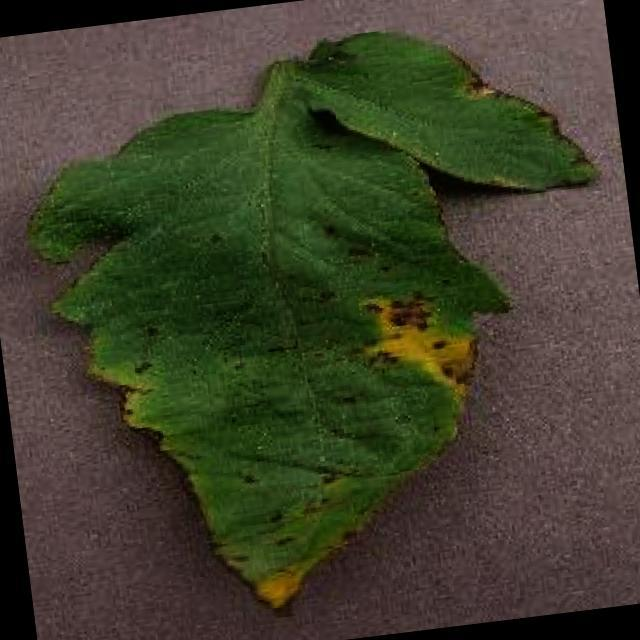Tomato bacterial spot leaf: (8, 4, 640, 640)
